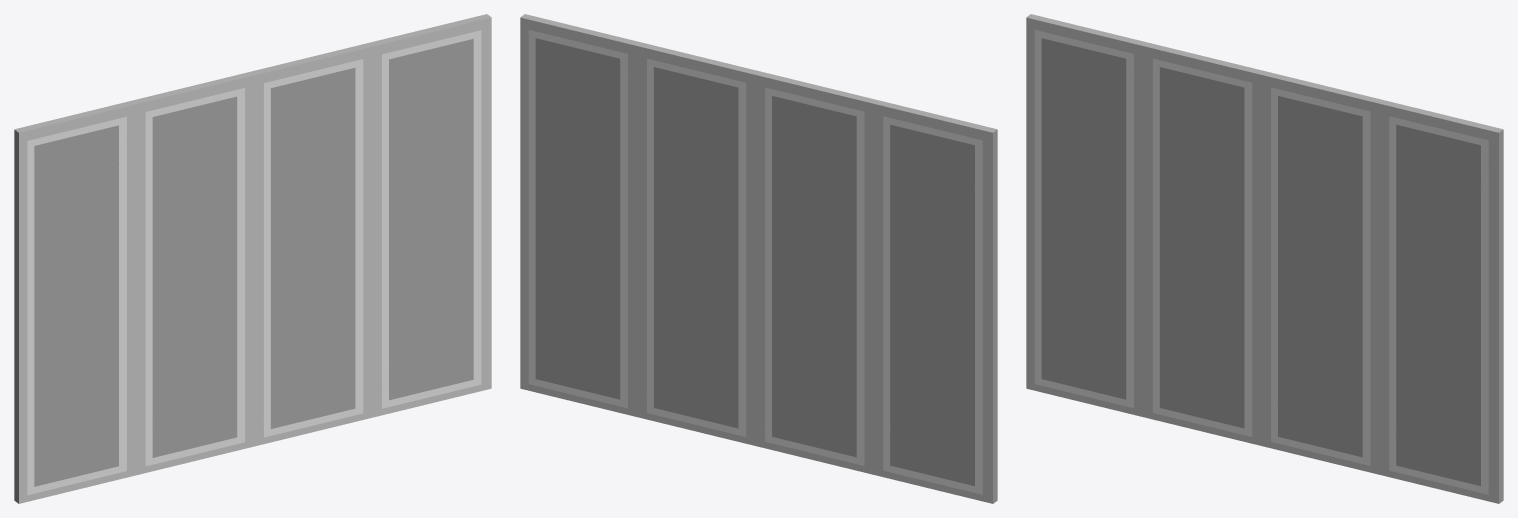
File: Wall_Gray_4m.fbx
The picture shows the model from 3 angles, left to right: view 1: azimuth 30°, elevation 25°; view 2: azimuth 150°, elevation 25°; view 3: azimuth 330°, elevation 25°; orthographic projection.
Parts seen in each view (by area): view 1: Wall_Gray_4m; view 2: Wall_Gray_4m; view 3: Wall_Gray_4m.
Boxes of the visible parts, x1,y1,x2,y2 form: Wall_Gray_4m: (14,14,491,503); Wall_Gray_4m: (520,14,997,503); Wall_Gray_4m: (1026,14,1503,503).
Size of the model in its own units: 400 by 300 by 7.
